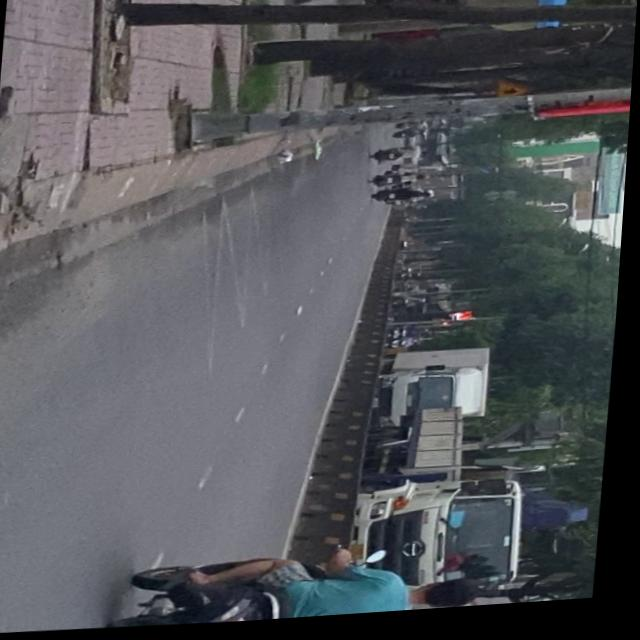licenseplate: (113, 544, 492, 632)
motorcyclist: (418, 582, 489, 616)
